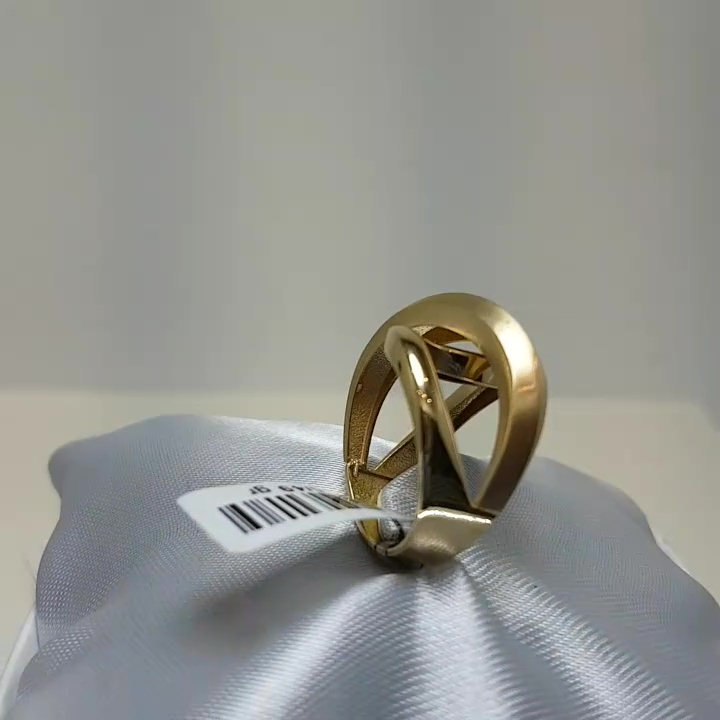Ring 3: (305, 296, 588, 586)
